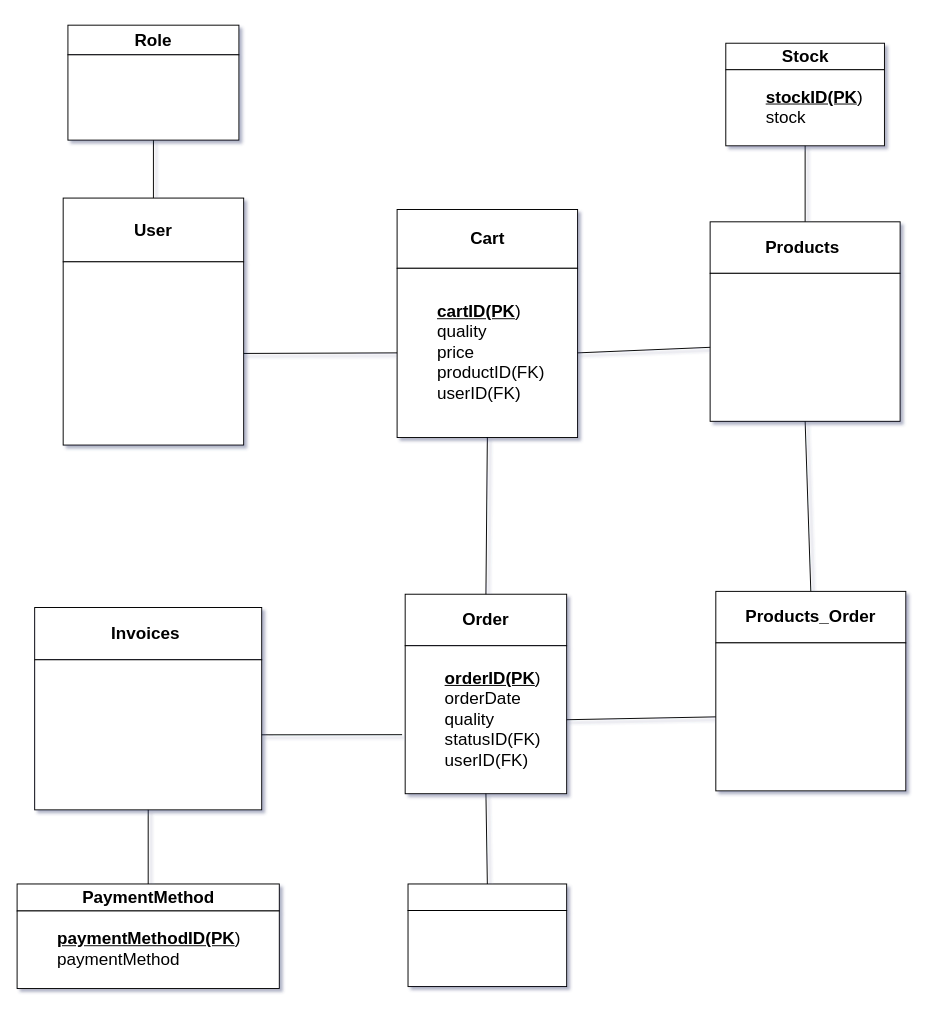
The diagram is 928 pixels wide and 1012 high, and some of its shapes have lost their labels. The shapes that lost their labels are listed below. From the top down, each one's centre as x and y in pixels, then its label:
At (153,97): "roleID(PK ) role".
At (153,353): "userID(PK ) username password address phoneNumber roleID(FK)".
At (804,346): "productID(PK ) productName description quality price stockID(FK)".
At (148,734): "invoiceID(PK ) paymentDate total paymentMethod(FK) orderID(FK)".
At (810,716): "productID(FK) orderID(FK) quanlity".
At (487,896): "Status".
At (487,948): "statusID(PK ) status".
